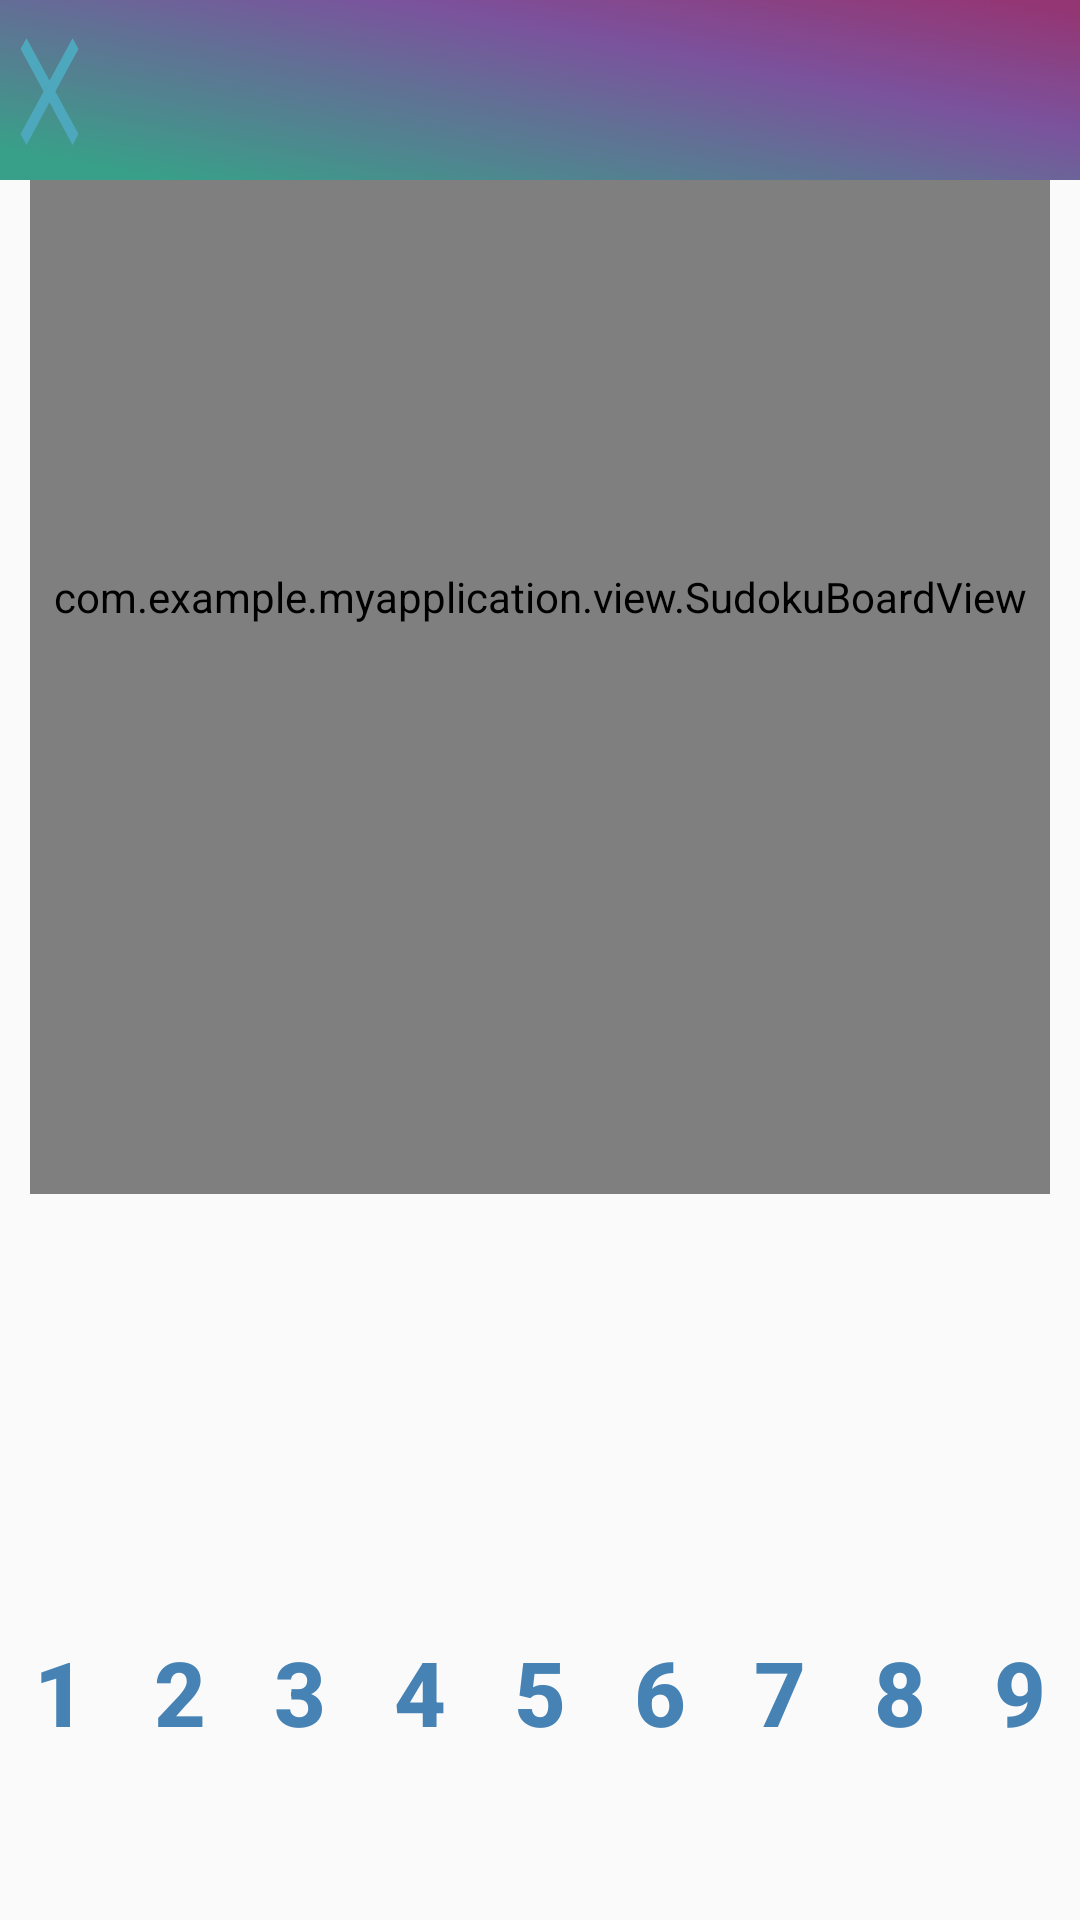

Where to tap for icons on this 1080px x 1920px app screen, as point (x, y):
close: point (49, 91)
